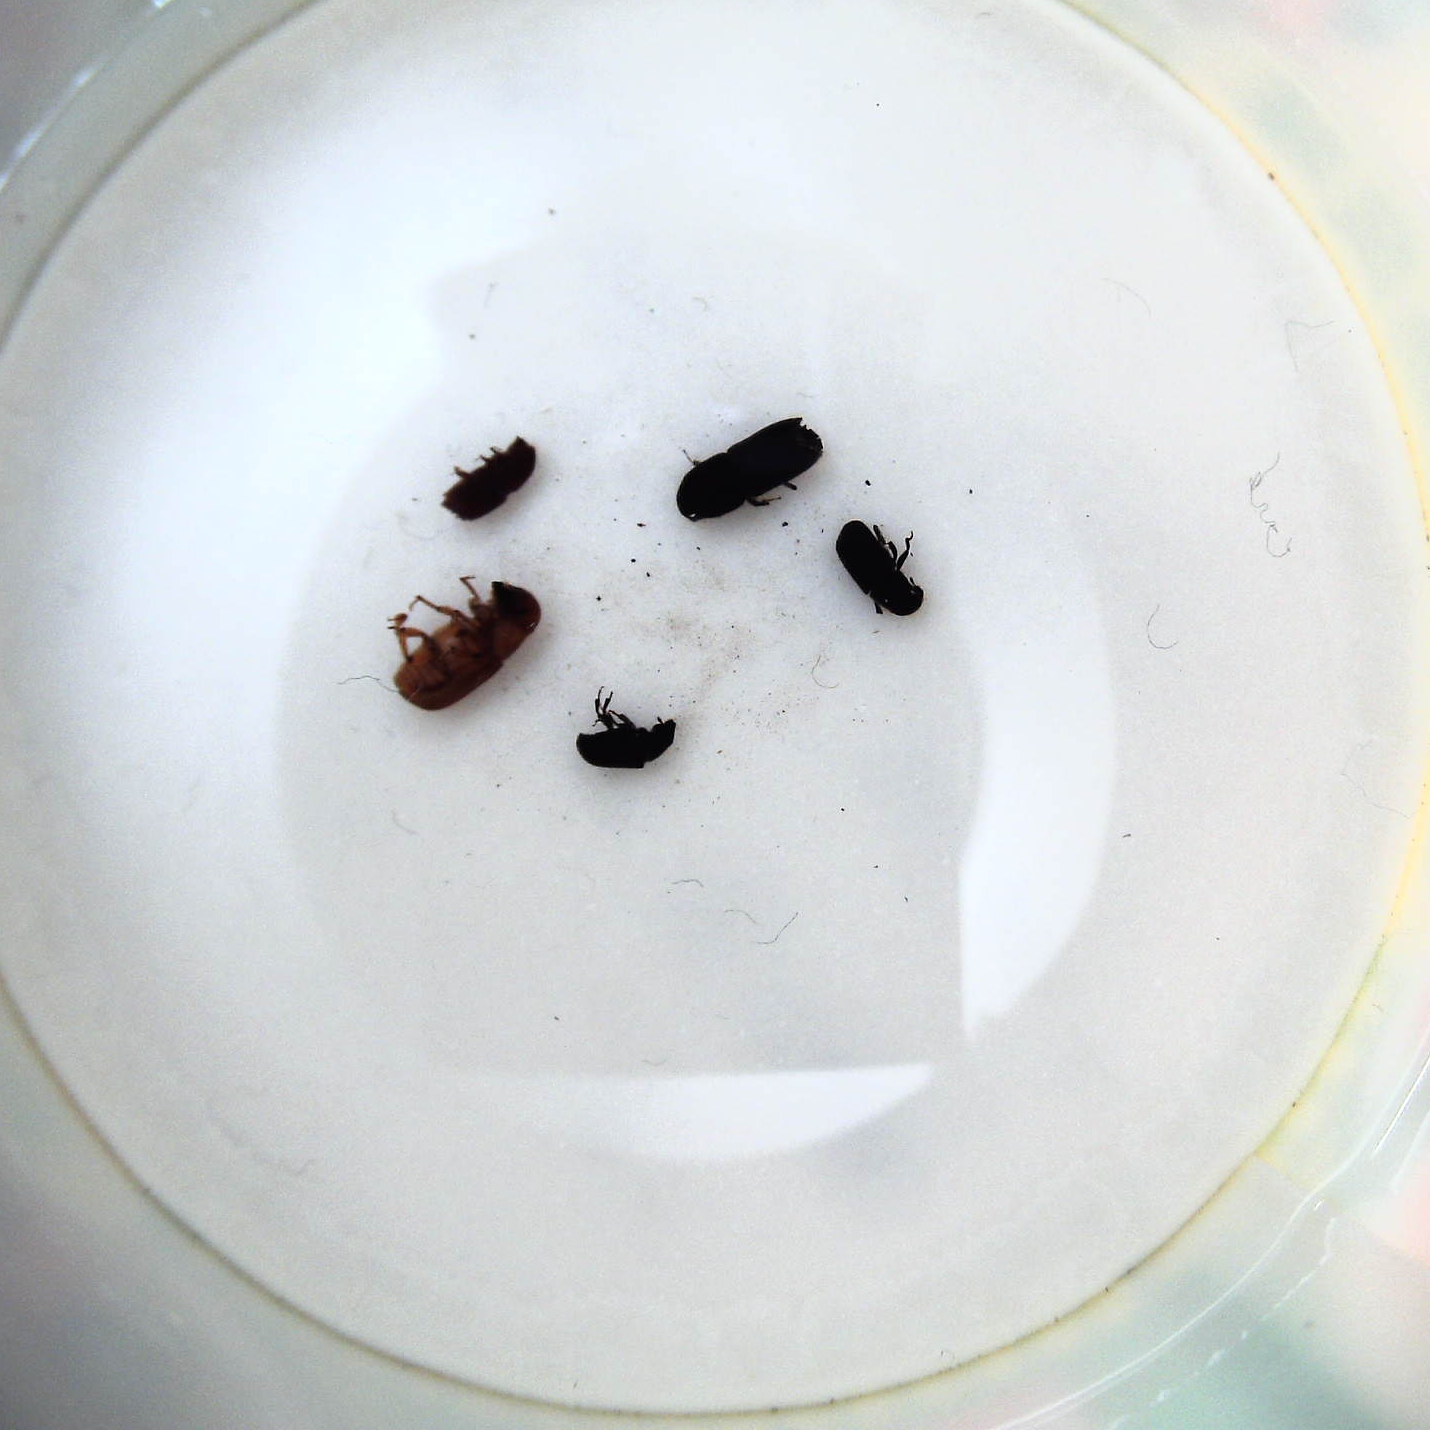Boerner: (673, 412, 832, 522)
Leconte: (390, 570, 549, 716)
armandi: (834, 519, 928, 625)
coleoptera: (575, 681, 685, 777)
linnaeus: (439, 437, 541, 522)
